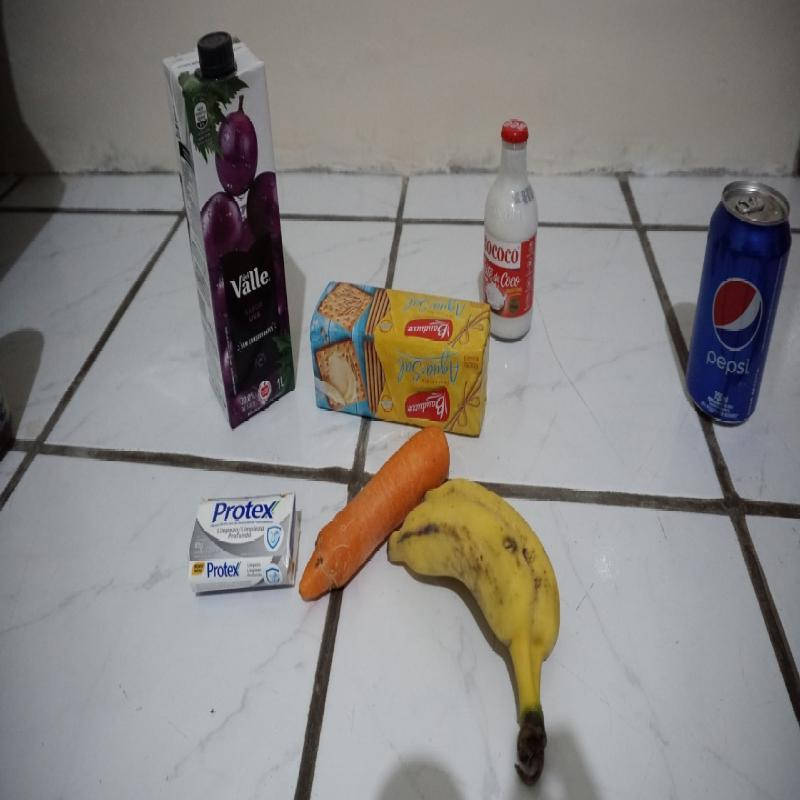Banana: (390, 479, 561, 774)
Carrot: (299, 428, 451, 600)
Coconut Milk: (485, 119, 538, 342)
Cracker: (312, 280, 491, 439)
Soap: (188, 495, 300, 596)
Soda can: (685, 181, 792, 429)
